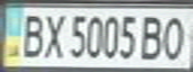0: (84, 12, 106, 60), (103, 11, 124, 60)
5: (118, 11, 142, 61), (66, 11, 87, 60)
B: (15, 10, 48, 60), (139, 11, 169, 61)
O: (157, 11, 190, 62)
X: (39, 10, 69, 60)
